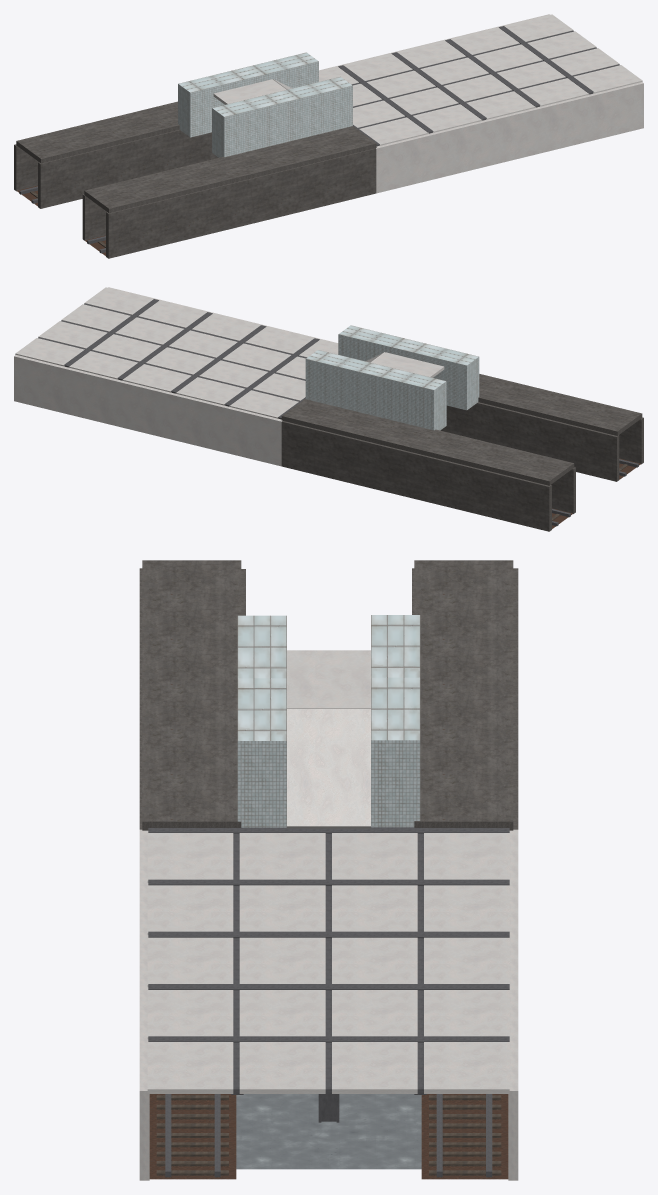
Rendered from ubahn1.obj.
The picture shows the model from 3 angles, top to bottom: view 1: azimuth 30°, elevation 25°; view 2: azimuth 150°, elevation 25°; view 3: azimuth 270°, elevation 25°; orthographic projection. The views are drawn at different scales.
Visible parts, largest first — view 1: Cube.034, Cube.003, Cube.006, Cube.021, Cube.009, Cube.020, Cube.063, Cube.029, Cube.062, Cube.031, Cube.030, Cube.060 (+6 smaller); view 2: Cube.034, Cube.002, Cube.007, Cube.020, Cube.008, Cube.021, Cube.062, Cube.030, Cube.063, Cube.031, Cube.029, Cube.060 (+5 smaller); view 3: Cube.034, Cube.021, Cube.020, Cube.001, Cube.031, Cube.061, Cube.030, Cube.029, Cube.060, Plane.001, Plane, Cube.002 (+10 smaller).
Boxes of the visible parts, x1,y1,x2,y2 form: Cube.034: [319, 14, 642, 145]; Cube.003: [376, 82, 643, 193]; Cube.006: [106, 148, 376, 258]; Cube.021: [84, 126, 376, 213]; Cube.009: [38, 129, 218, 208]; Cube.020: [16, 101, 179, 163]; Cube.063: [212, 92, 288, 157]; Cube.029: [276, 76, 352, 141]; Cube.062: [178, 68, 254, 137]; Cube.031: [338, 26, 593, 146]; Cube.030: [242, 52, 318, 88]; Cube.060: [213, 79, 286, 104]; Cube.034: [15, 287, 338, 418]; Cube.002: [14, 355, 282, 466]; Cube.007: [281, 421, 551, 531]; Cube.020: [281, 399, 574, 485]; Cube.008: [440, 402, 619, 481]; Cube.021: [478, 374, 642, 435]; Cube.062: [370, 365, 446, 430]; Cube.030: [305, 350, 381, 414]; Cube.063: [402, 341, 479, 410]; Cube.031: [64, 299, 319, 419]; Cube.029: [338, 325, 414, 361]; Cube.060: [371, 352, 444, 377]; Cube.034: [147, 832, 509, 1093]; Cube.021: [142, 560, 241, 830]; Cube.020: [414, 560, 513, 830]; Cube.001: [236, 1094, 421, 1169]; Cube.031: [148, 827, 509, 1042]; Cube.061: [287, 708, 370, 828]; Cube.030: [371, 677, 420, 827]; Cube.029: [237, 678, 286, 827]; Cube.060: [287, 650, 370, 708]; Plane.001: [149, 1094, 236, 1179]; Plane: [421, 1094, 508, 1179]; Cube.002: [508, 829, 518, 1180].
Bounding box in the file's own units: 100 × 16 × 30.6.
8 materials, 8 textured.
